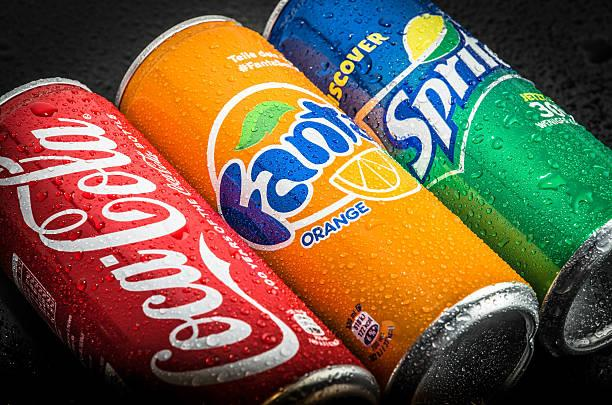can: (127, 20, 538, 404), (0, 78, 376, 404), (264, 0, 611, 299)
